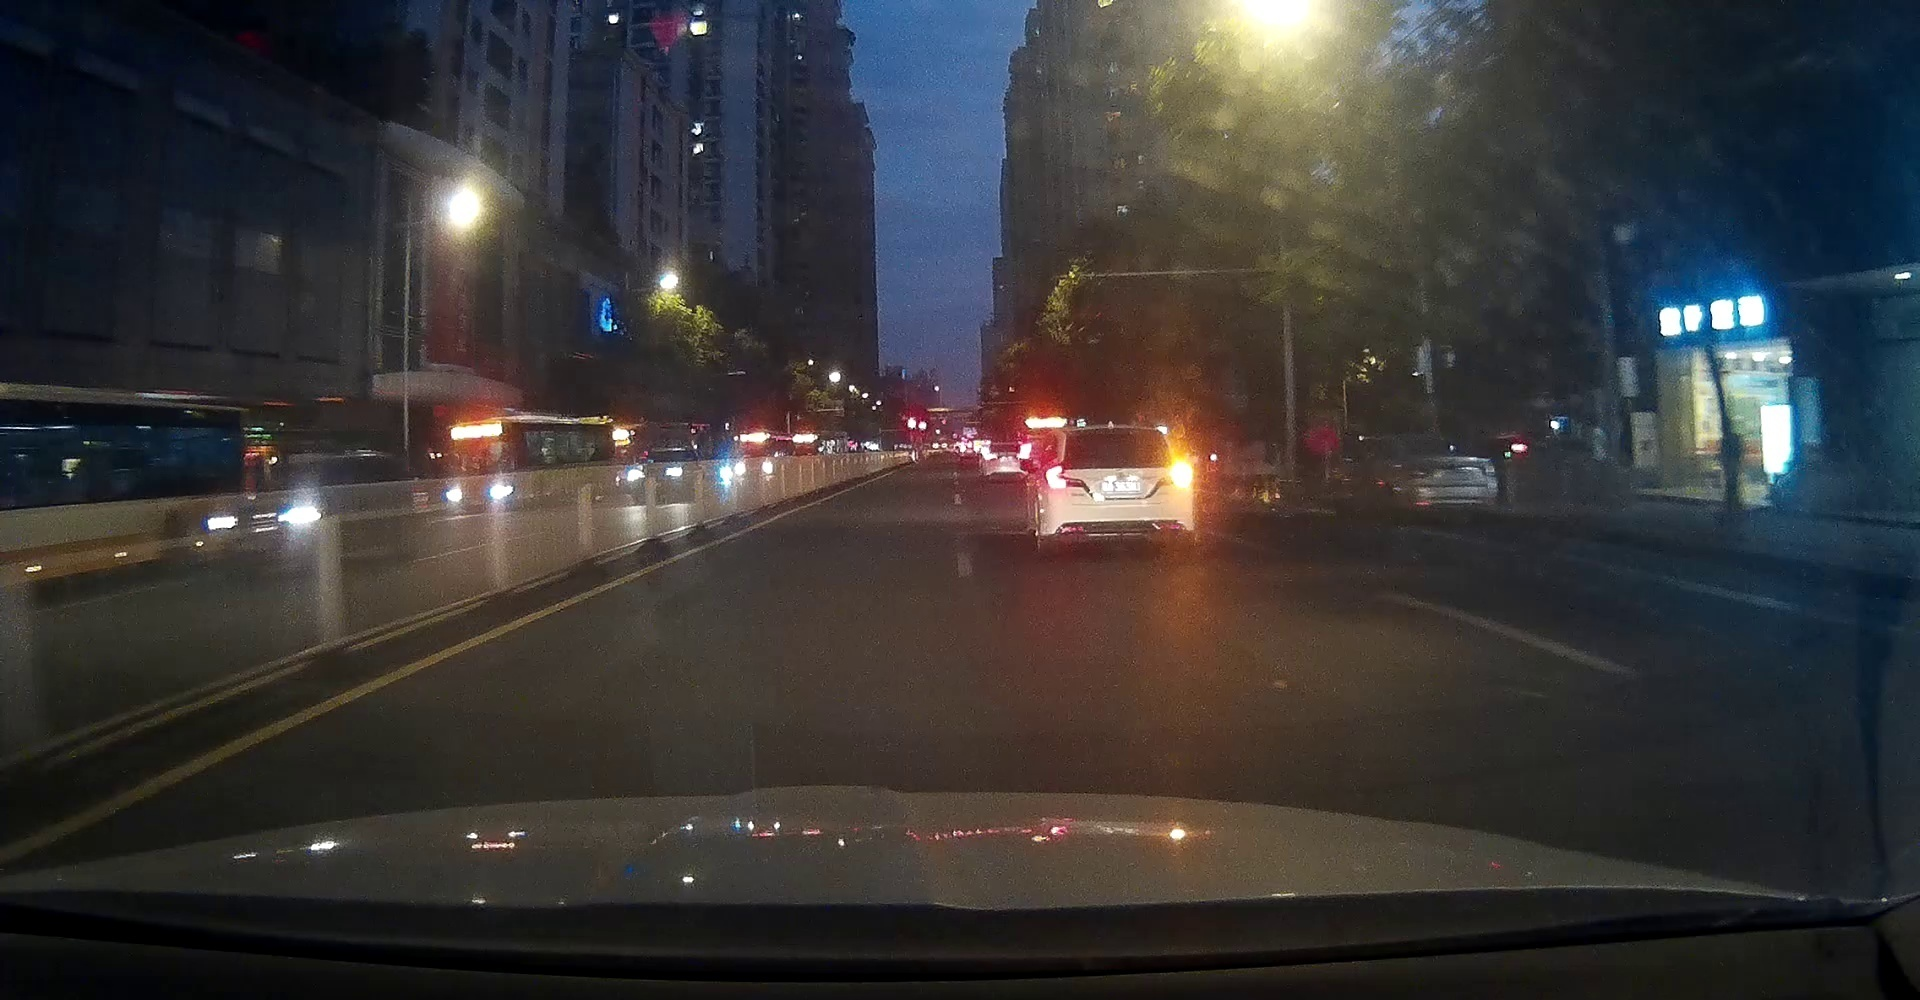L_light: (1044, 464, 1067, 489)
R_light: (1171, 463, 1192, 487)
T_light: (1098, 428, 1124, 435)
night-right: (1044, 425, 1192, 555)
